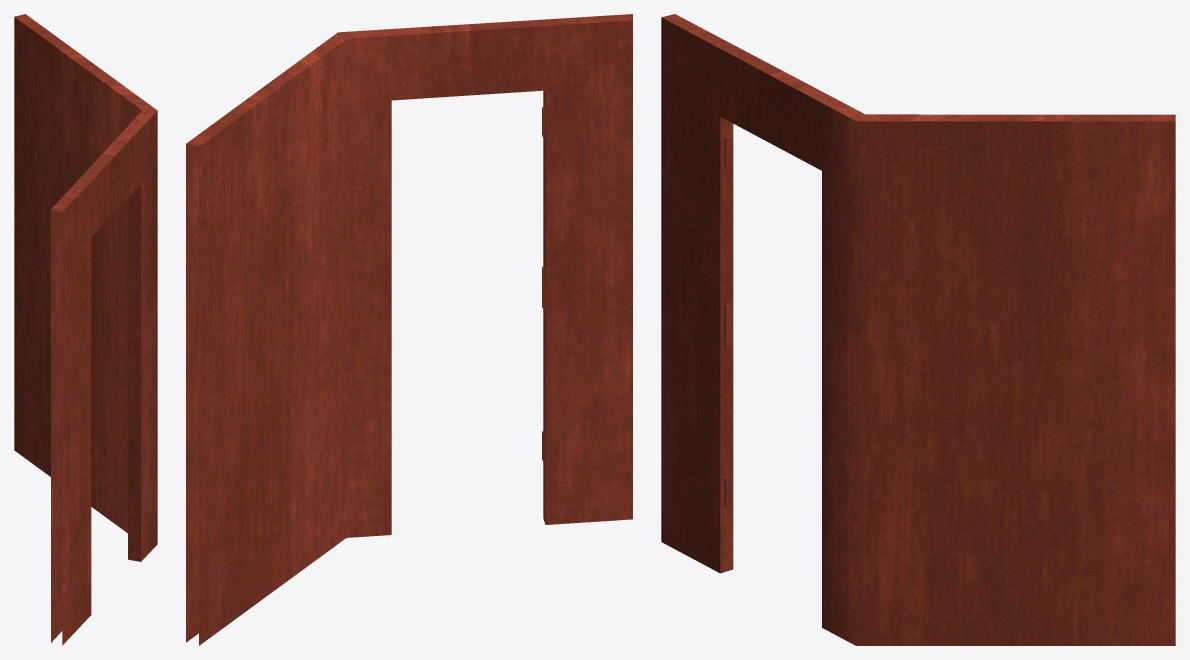
The model's file is SM_Bed_Bath_Wall.fbx.
3 renders of one model, left to right at view 1: azimuth 30°, elevation 25°; view 2: azimuth 150°, elevation 25°; view 3: azimuth 270°, elevation 25°, orthographic. The views are drawn at different scales.
Visible parts, largest first — view 1: SM_Bed_Bath_Wall; view 2: SM_Bed_Bath_Wall; view 3: SM_Bed_Bath_Wall.
Part boxes in pixels (<box>): SM_Bed_Bath_Wall: <box>14,14,157,645</box>; SM_Bed_Bath_Wall: <box>186,14,632,645</box>; SM_Bed_Bath_Wall: <box>661,14,1175,645</box>.
Size of the model in its own units: 114 by 230 by 259.
Materials: 1 (1 with a texture image).
